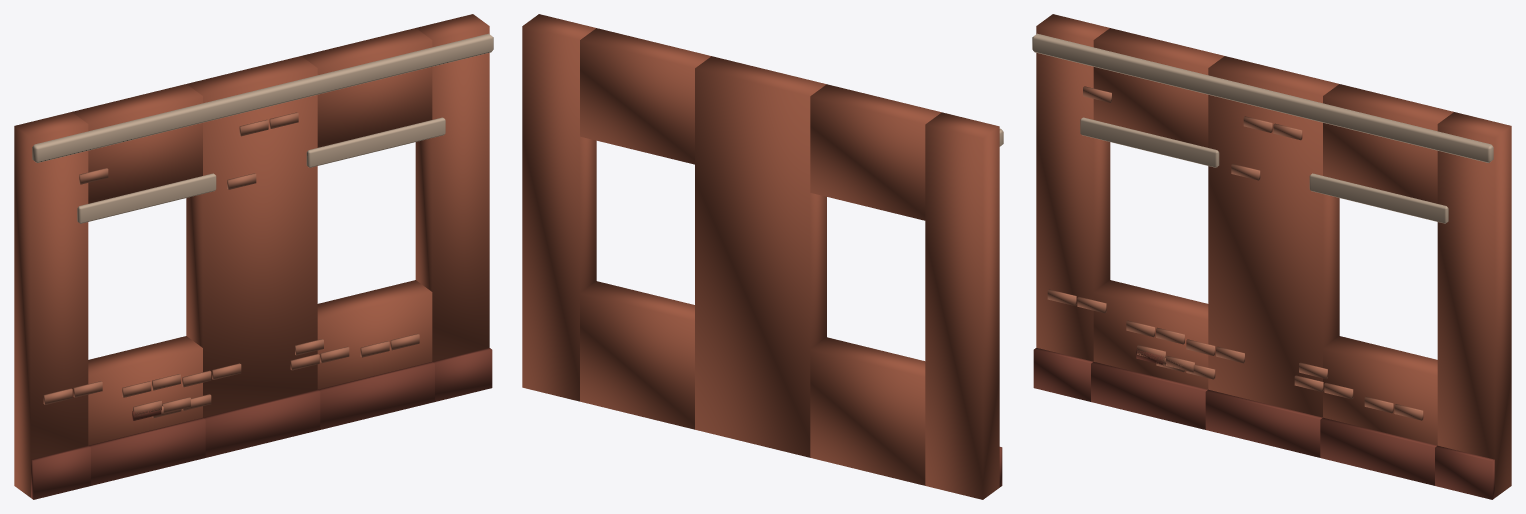
File: wall_4m_window.glb
3 renders of one model, left to right at view 1: azimuth 30°, elevation 25°; view 2: azimuth 150°, elevation 25°; view 3: azimuth 330°, elevation 25°, orthographic.
Parts seen in each view (by area): view 1: wall_4m_window; view 2: wall_4m_window; view 3: wall_4m_window.
Part boxes in pixels (x1,y1,x2,y2): wall_4m_window: (14, 14, 493, 499); wall_4m_window: (522, 14, 1003, 499); wall_4m_window: (1032, 14, 1511, 499).
Bounding box in the file's own units: 4 × 3 × 0.33.
